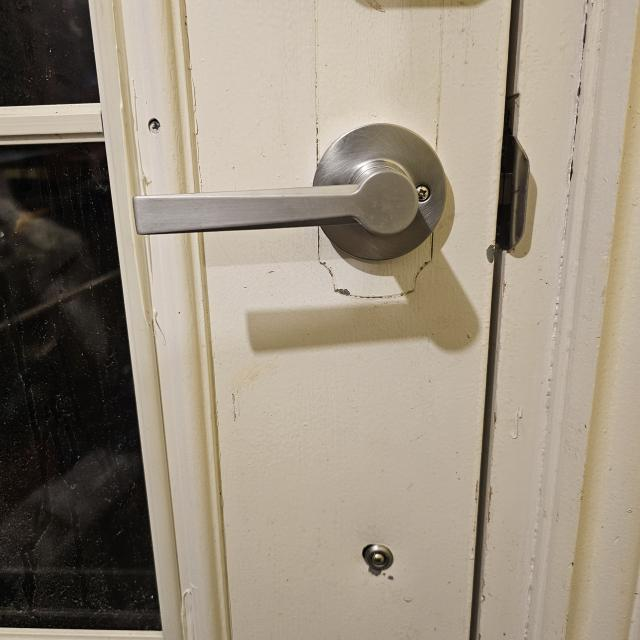door-handle: (134, 124, 446, 260)
